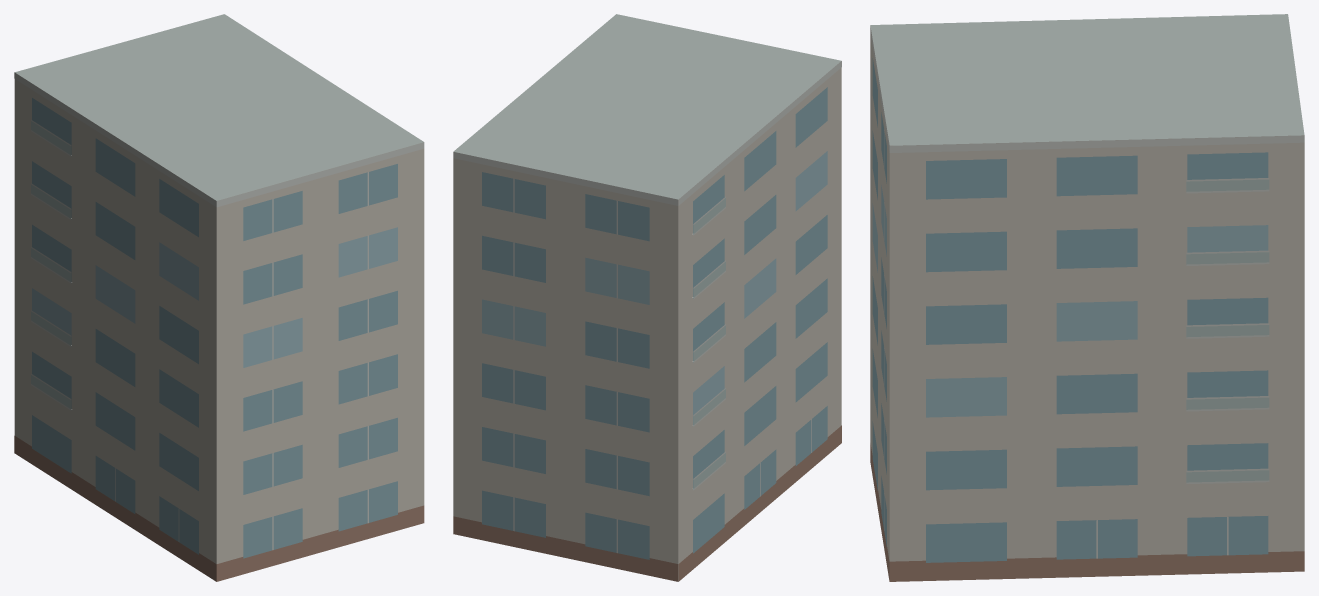
File: survey-upis-32891671.glb
3 views of the same model, side by side, from view 1: azimuth 30°, elevation 25°; view 2: azimuth 150°, elevation 25°; view 3: azimuth 270°, elevation 25° (orthographic). The views are drawn at different scales.
Visible parts, largest first — view 1: survey-upis-32891671.tmp; view 2: survey-upis-32891671.tmp; view 3: survey-upis-32891671.tmp.
Part boxes in pixels (x1=…): survey-upis-32891671.tmp: x1=14, y1=14, x2=424, y2=581; survey-upis-32891671.tmp: x1=453, y1=14, x2=841, y2=581; survey-upis-32891671.tmp: x1=870, y1=14, x2=1304, y2=581.
Size of the model in its own units: 9.41 by 14.5 by 13.1.
